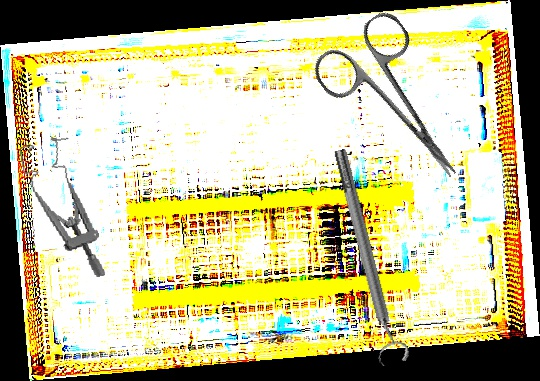Fixation Ring: (324, 145, 412, 368)
Iris Scissors: (307, 6, 491, 207)
Speculum: (18, 132, 107, 288)
